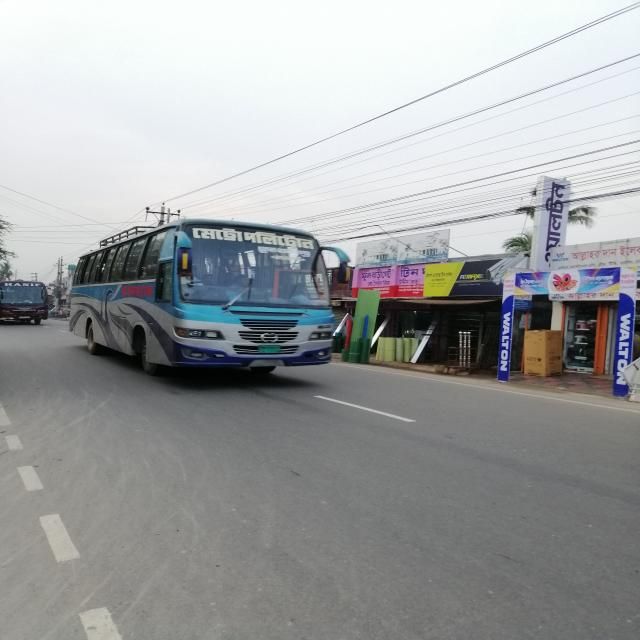Bus: (64, 214, 382, 398)
